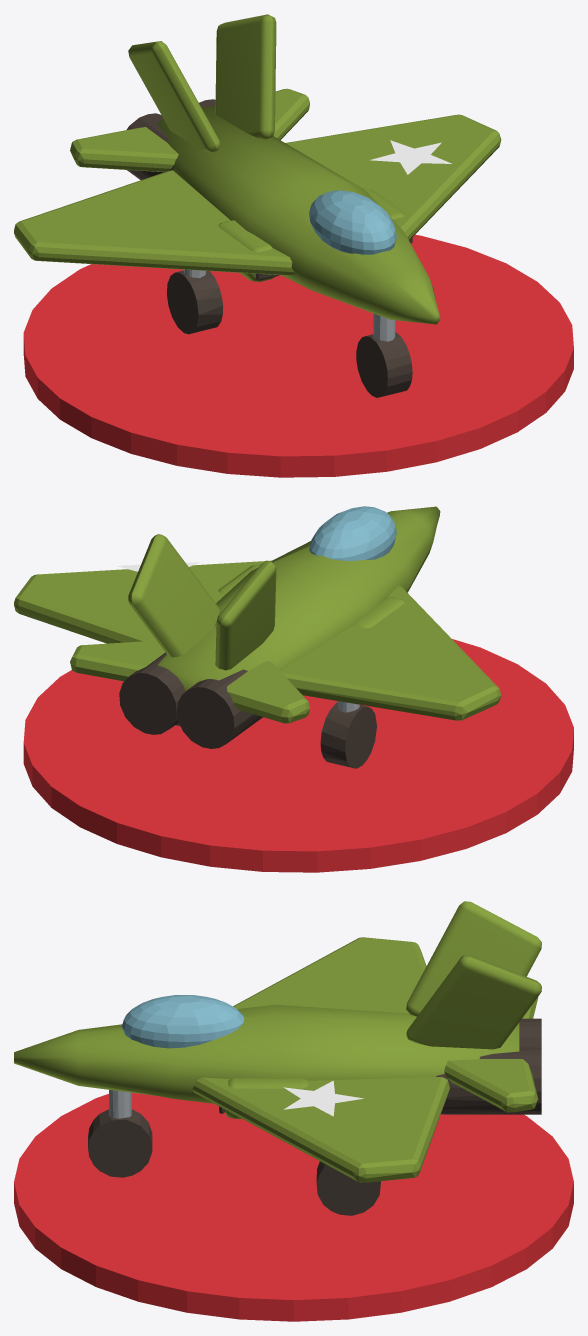
Rendered from usa_air_force_lod0.glb.
The picture shows the model from 3 angles, top to bottom: view 1: azimuth 30°, elevation 25°; view 2: azimuth 150°, elevation 25°; view 3: azimuth 270°, elevation 25°; orthographic projection.
Parts seen in each view (by area): view 1: base_pedestal, body_hull; view 2: base_pedestal, body_hull; view 3: base_pedestal, body_hull.
Boxes of the visible parts, x1=… form: base_pedestal: x1=23, y1=234, x2=573, y2=477; body_hull: x1=14, y1=14, x2=501, y2=397; base_pedestal: x1=23, y1=639, x2=573, y2=872; body_hull: x1=14, y1=506, x2=501, y2=768; base_pedestal: x1=14, y1=1093, x2=573, y2=1321; body_hull: x1=14, y1=901, x2=541, y2=1215.
Bounding box in the file's own units: 0.78 × 0.4217 × 0.78.
